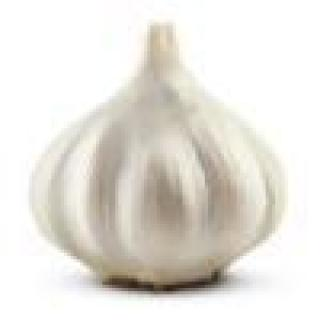Bawang Putih: (14, 20, 305, 302)
